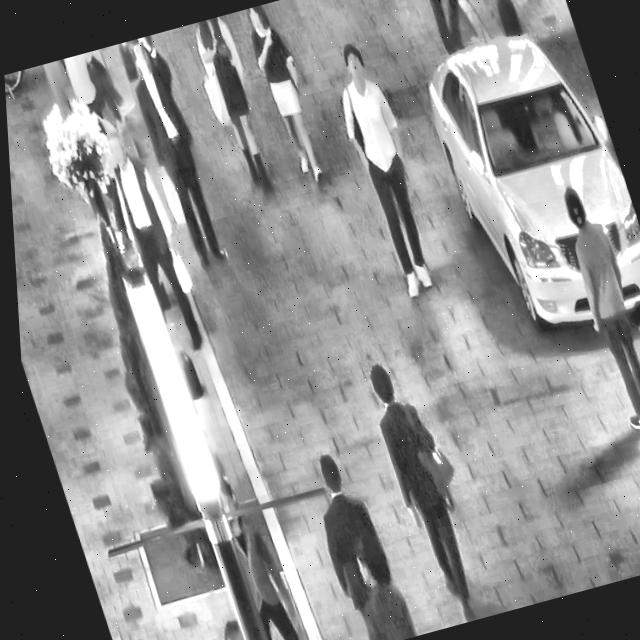light_vehicle: (399, 0, 640, 356)
